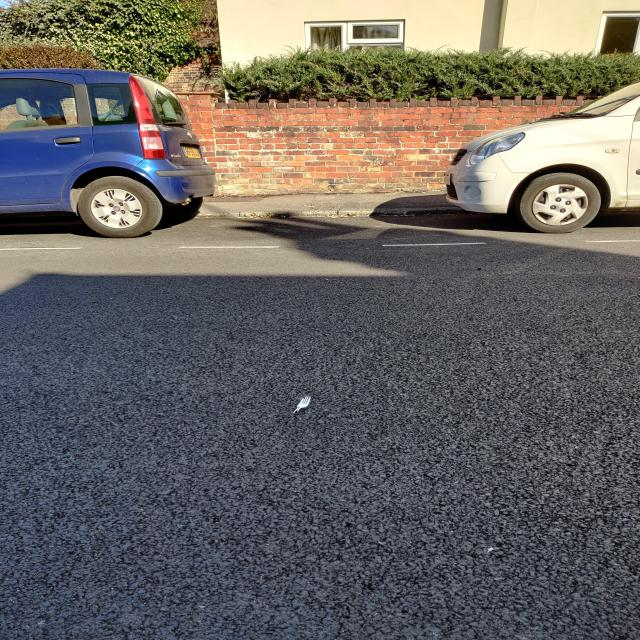litter: (292, 392, 319, 420)
